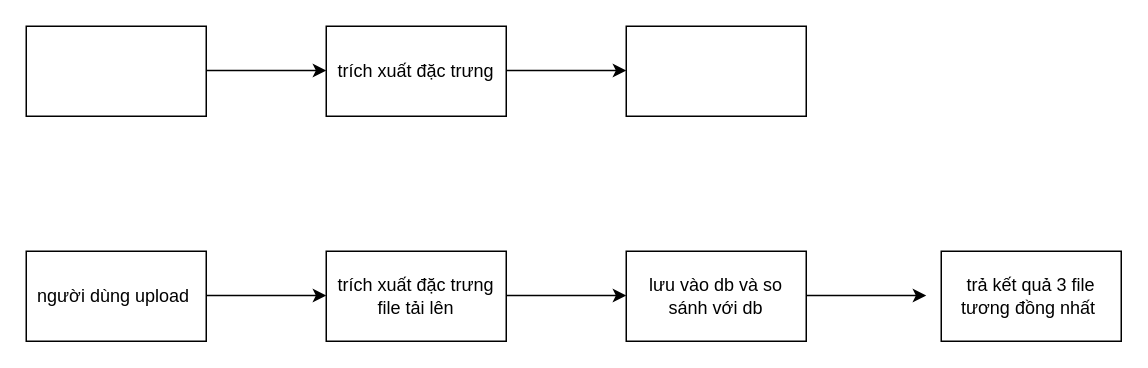
The diagram is 1148 pixels wide and 368 high, and some of its shapes have lost their labels. The shapes that lost their labels are listed below. From the top down, each one's box as (x1, y1, x2, y2) in pixels, then its label:
(25, 25, 206, 116): nhập dataset
(625, 25, 806, 116): lưu vào database
